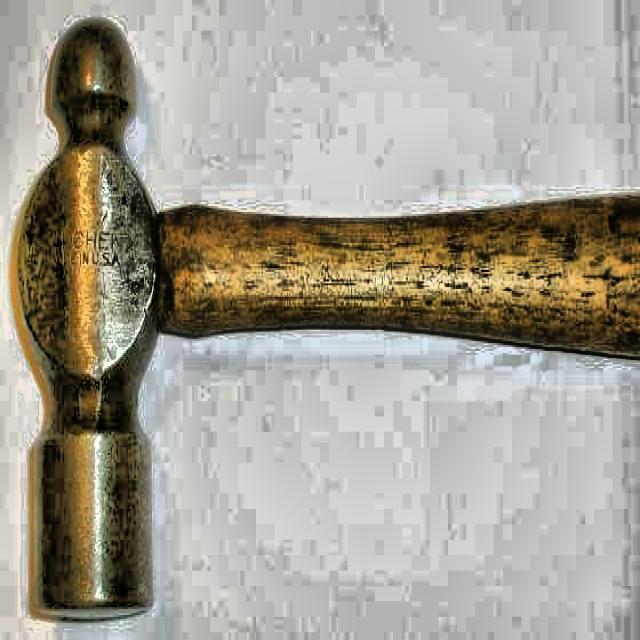hammer: (12, 20, 640, 621)
